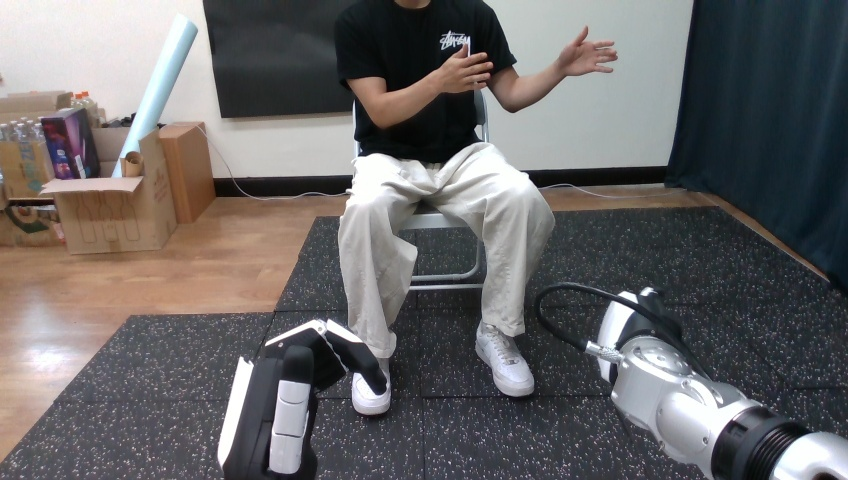left robot hand: (534, 282, 847, 479), (218, 319, 388, 478), (557, 26, 617, 77)
